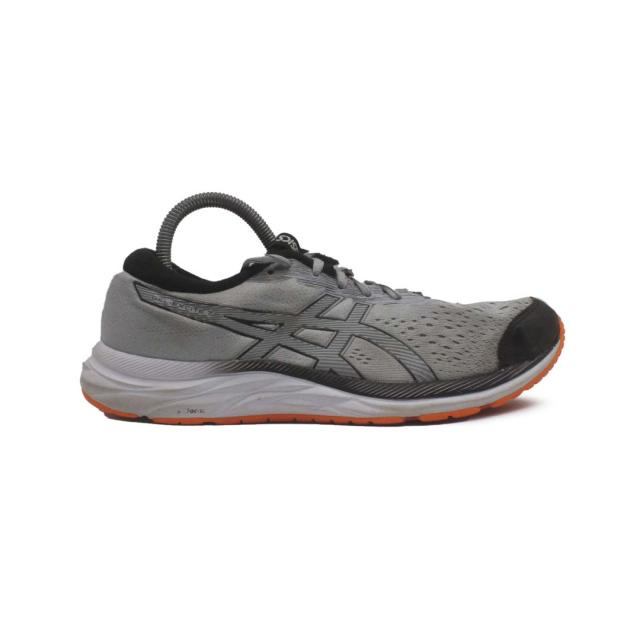heel: (101, 247, 182, 357)
midsole: (81, 320, 565, 424)
uppersole: (154, 231, 559, 374)
